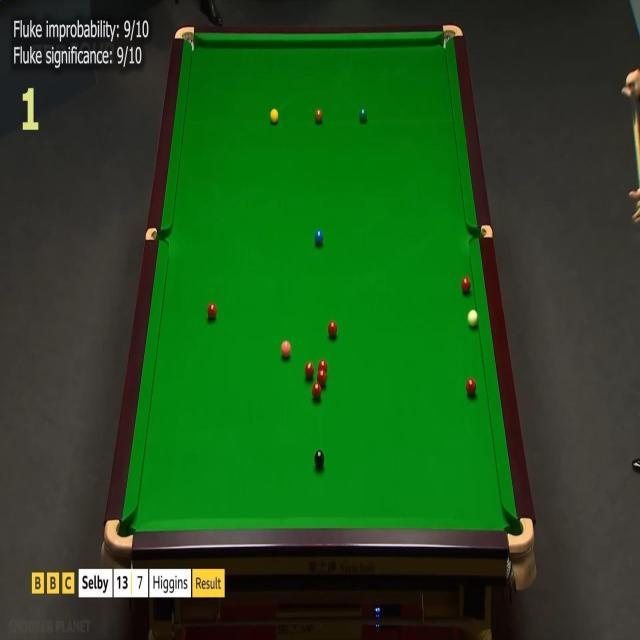Ball: (314, 450, 325, 468), (281, 340, 291, 358), (328, 320, 338, 338), (207, 302, 217, 319), (316, 369, 326, 386), (466, 378, 476, 395), (461, 276, 471, 293), (468, 310, 478, 326), (304, 362, 314, 378), (312, 383, 322, 399), (270, 108, 279, 124), (318, 360, 328, 374), (315, 228, 323, 244), (314, 108, 322, 122), (359, 108, 367, 121)
